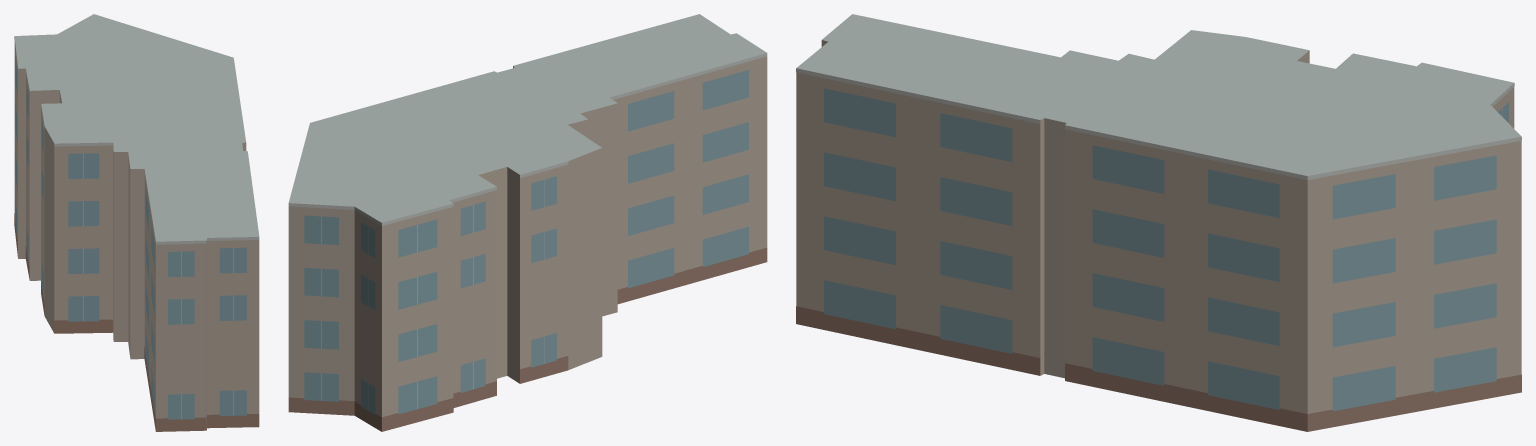
Rendered from survey-upis-32971338.glb.
3 views of the same model, side by side, from view 1: azimuth 30°, elevation 25°; view 2: azimuth 150°, elevation 25°; view 3: azimuth 270°, elevation 25° (orthographic). The views are drawn at different scales.
Parts seen in each view (by area): view 1: survey-upis-32971338.tmp; view 2: survey-upis-32971338.tmp; view 3: survey-upis-32971338.tmp.
Part boxes in pixels (x1=…): survey-upis-32971338.tmp: x1=14, y1=14, x2=259, y2=431; survey-upis-32971338.tmp: x1=288, y1=14, x2=767, y2=431; survey-upis-32971338.tmp: x1=796, y1=14, x2=1521, y2=431.
Size of the model in its own units: 21.01 by 15.45 by 39.73.
